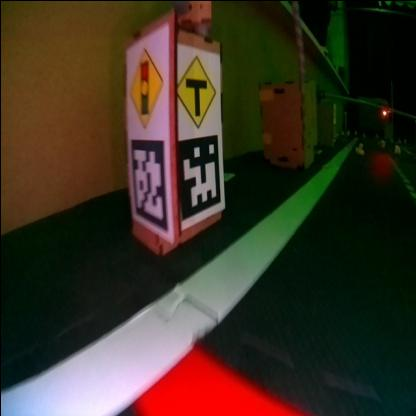Duckie: (354, 142, 362, 154), (393, 144, 399, 152)
Intersection sign: (175, 53, 218, 126)
QR code: (175, 133, 221, 221), (128, 138, 169, 230)
Signal sign: (126, 25, 168, 134)
